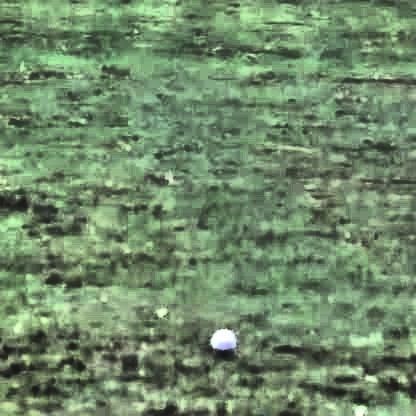golfball: (207, 327, 233, 353)
